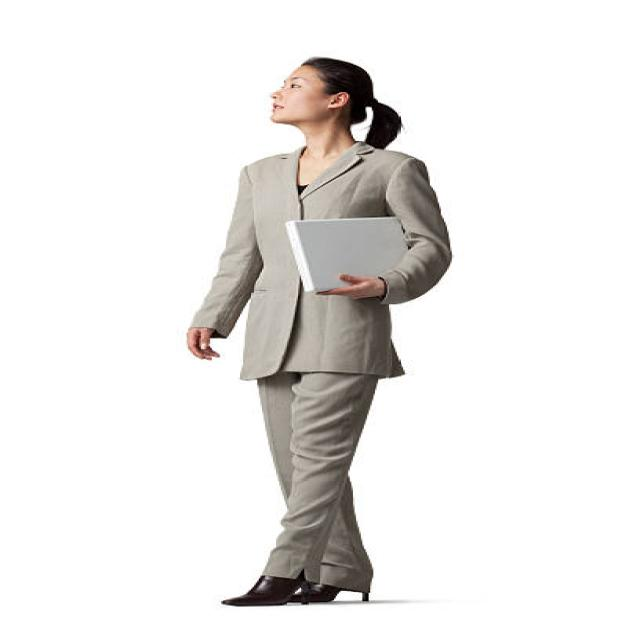Edited images: (171, 50, 483, 618)
